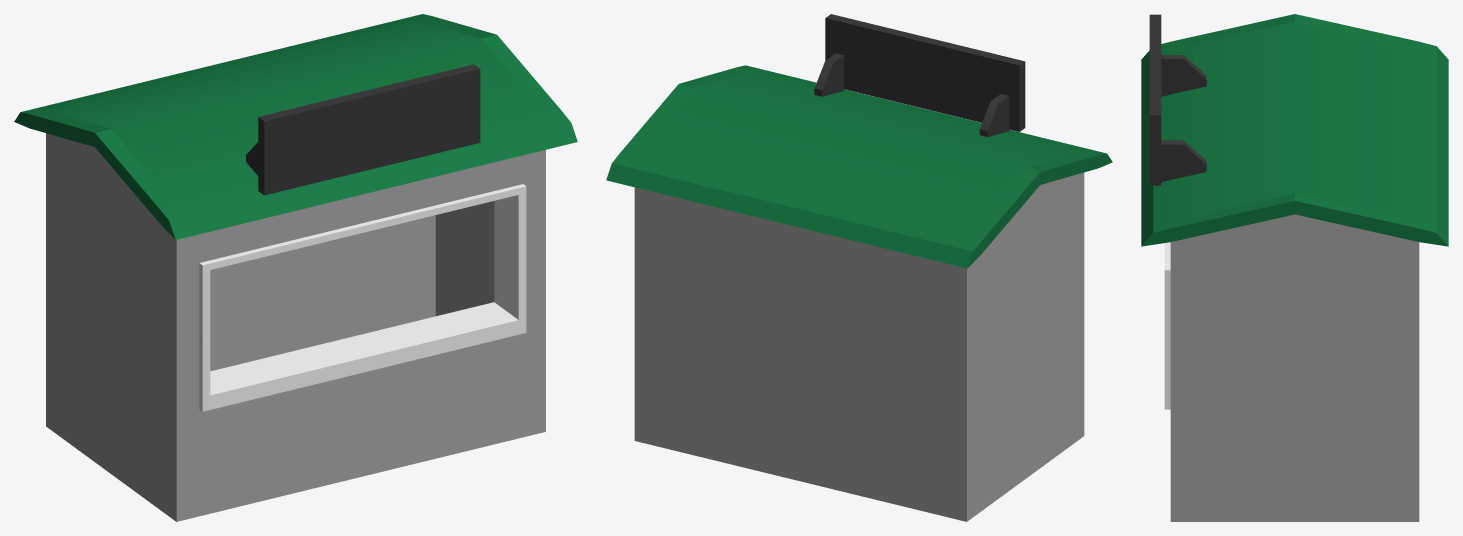
Rendered from SnackStand.FBX.
The picture shows the model from 3 angles, left to right: view 1: azimuth 30°, elevation 25°; view 2: azimuth 150°, elevation 25°; view 3: azimuth 270°, elevation 25°; orthographic projection. The views are drawn at different scales.
Visible parts, largest first — view 1: Box001; view 2: Box001; view 3: Box001.
Boxes of the visible parts, x1,y1,x2,y2 form: Box001: (14,14,577,521); Box001: (606,14,1112,521); Box001: (1141,14,1448,521).
Size of the model in its own units: 1.59 by 1.48 by 1.11.
Materials: 1 (1 with a texture image).
